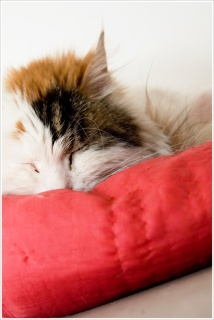Cat: (0, 13, 211, 199)
